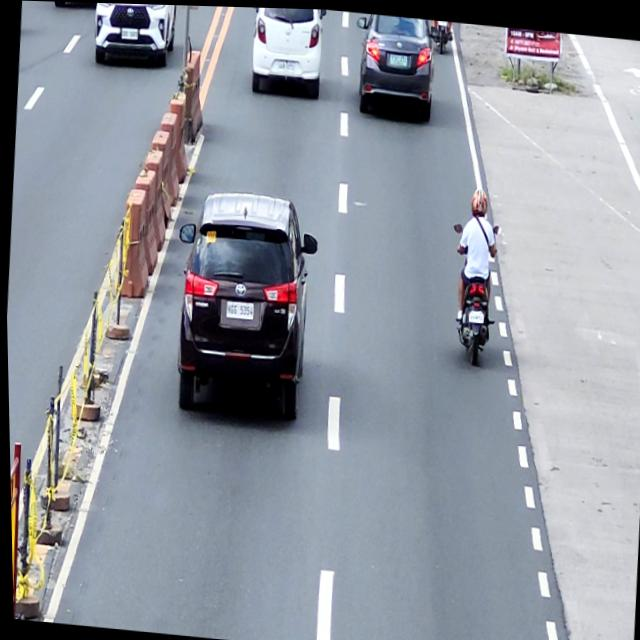Car: (165, 183, 323, 421), (350, 10, 437, 119), (246, 6, 328, 97), (89, 2, 177, 69)
License-Plate: (222, 296, 253, 319), (276, 54, 295, 73), (388, 49, 409, 66), (121, 25, 139, 40)
Motorcycle: (442, 217, 502, 365)
